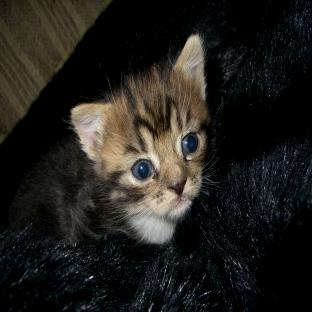Animal: (7, 35, 214, 244)
